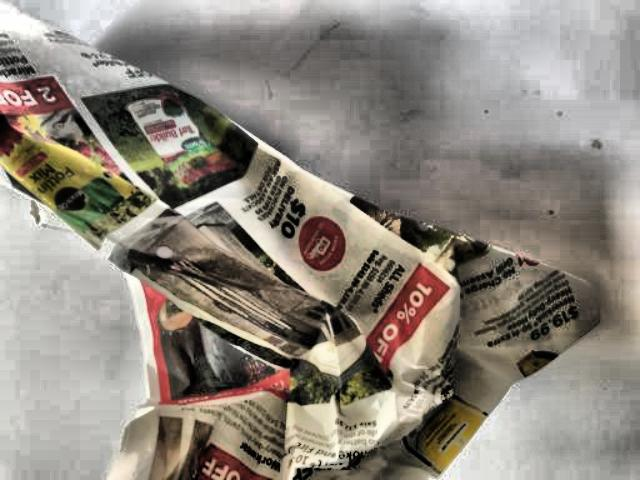Paper: (0, 20, 604, 480)
